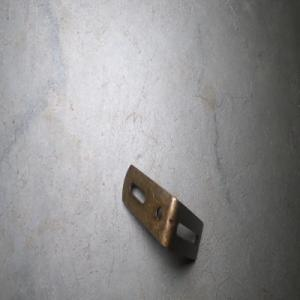MetalPart: (120, 163, 204, 263)
